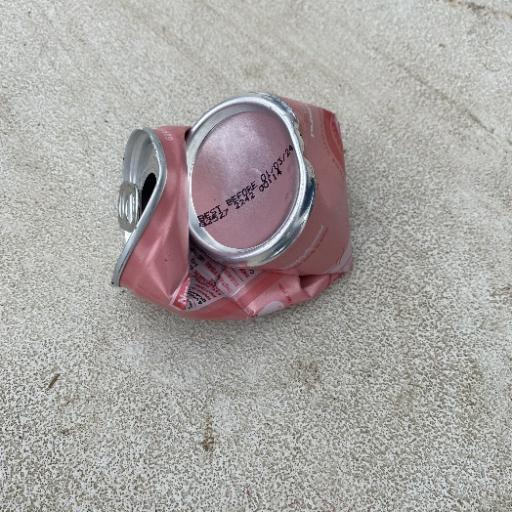Metal: (109, 90, 355, 321)
